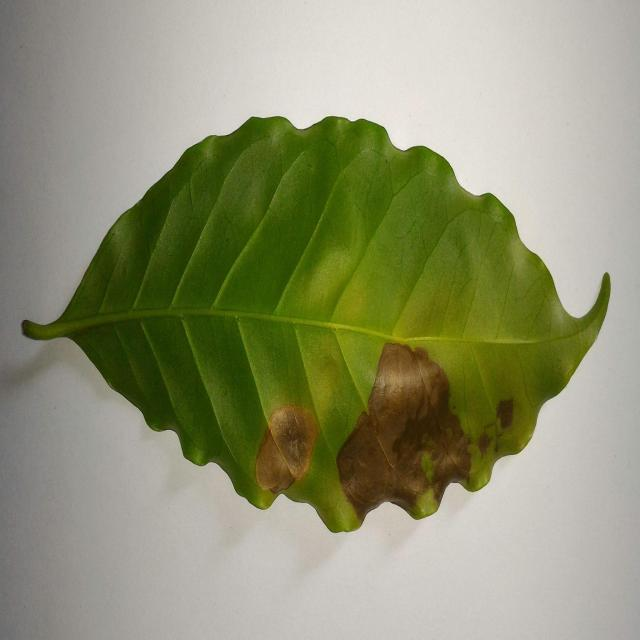miner: (337, 344, 471, 519), (468, 395, 536, 491), (257, 403, 319, 496)
